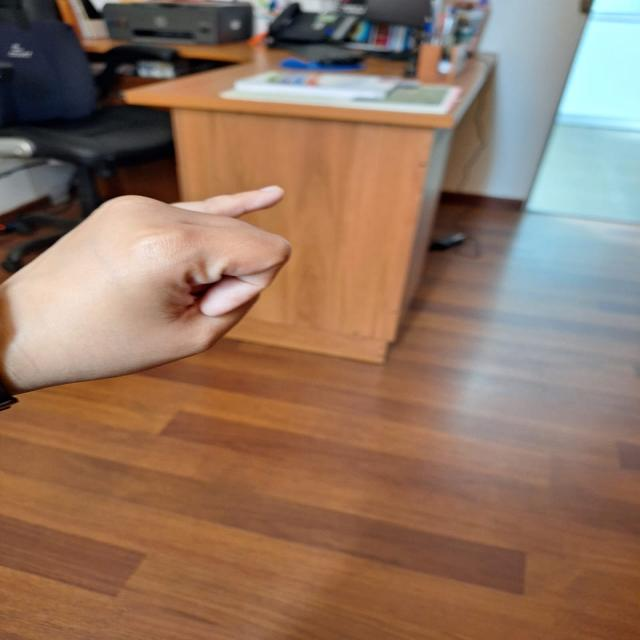Z: (8, 178, 302, 390)
